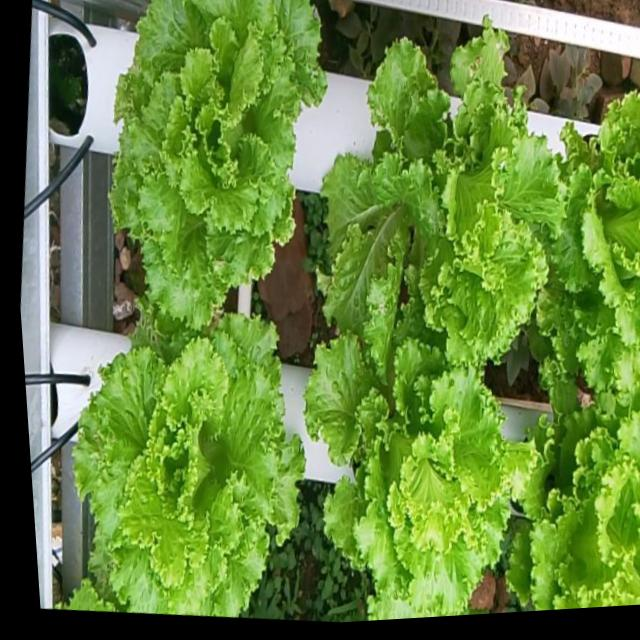Mature: (328, 16, 571, 354), (69, 305, 314, 616), (314, 304, 534, 620), (119, 0, 334, 322), (517, 382, 640, 610), (547, 78, 640, 377)
